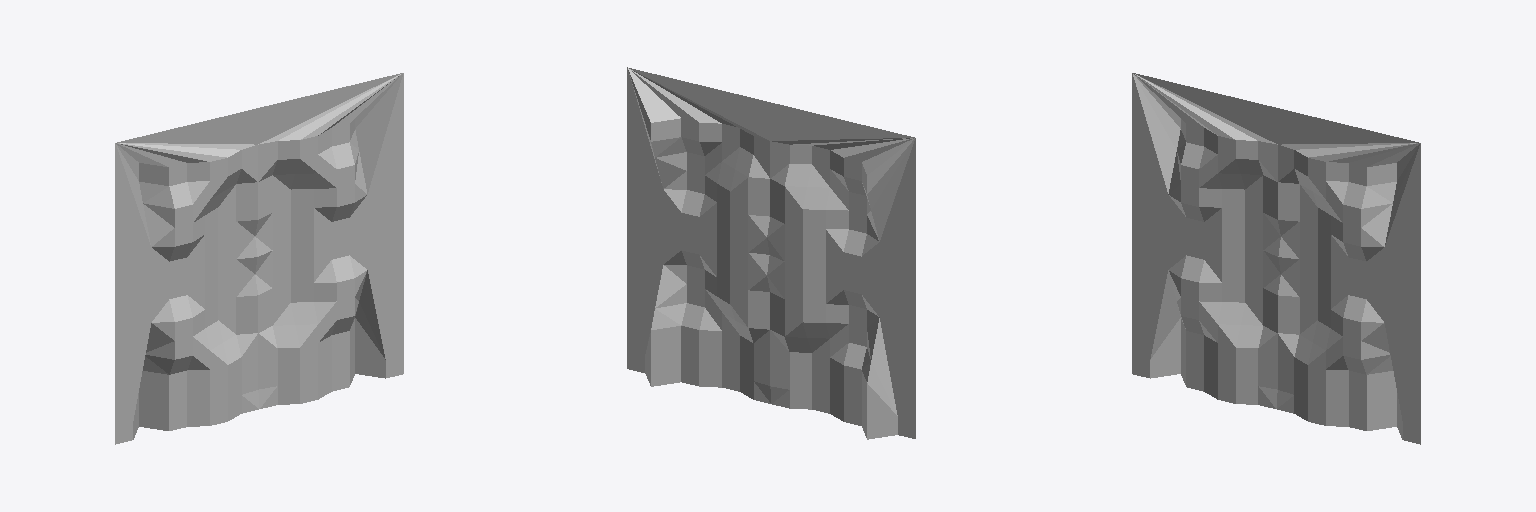
The model's file is bumps_endpoint.obj.
3 renders of one model, left to right at view 1: azimuth 30°, elevation 25°; view 2: azimuth 150°, elevation 25°; view 3: azimuth 330°, elevation 25°, orthographic.
Parts seen in each view (by area): view 1: street; view 2: street; view 3: street.
Boxes of the visible parts, x1=… form: street: x1=115, y1=73, x2=403, y2=444; street: x1=627, y1=67, x2=915, y2=439; street: x1=1132, y1=73, x2=1420, y2=444.
Bounding box in the file's own units: 2 × 2 × 0.2131.